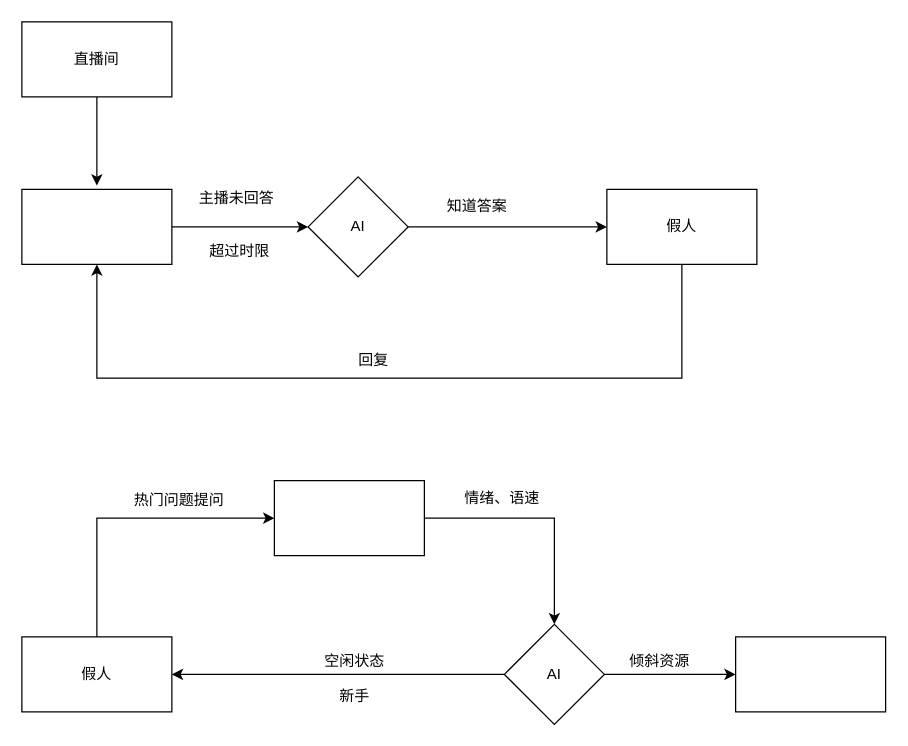
Some shapes in this 908 by 746 pixel diagram are drawn without their labels. Here are the shapes that lost their labels. From the top down, the box of each, then its label:
(21, 188, 172, 264): 真实发言提问
(273, 479, 424, 556): 新手直播间
(734, 636, 886, 712): 推荐
